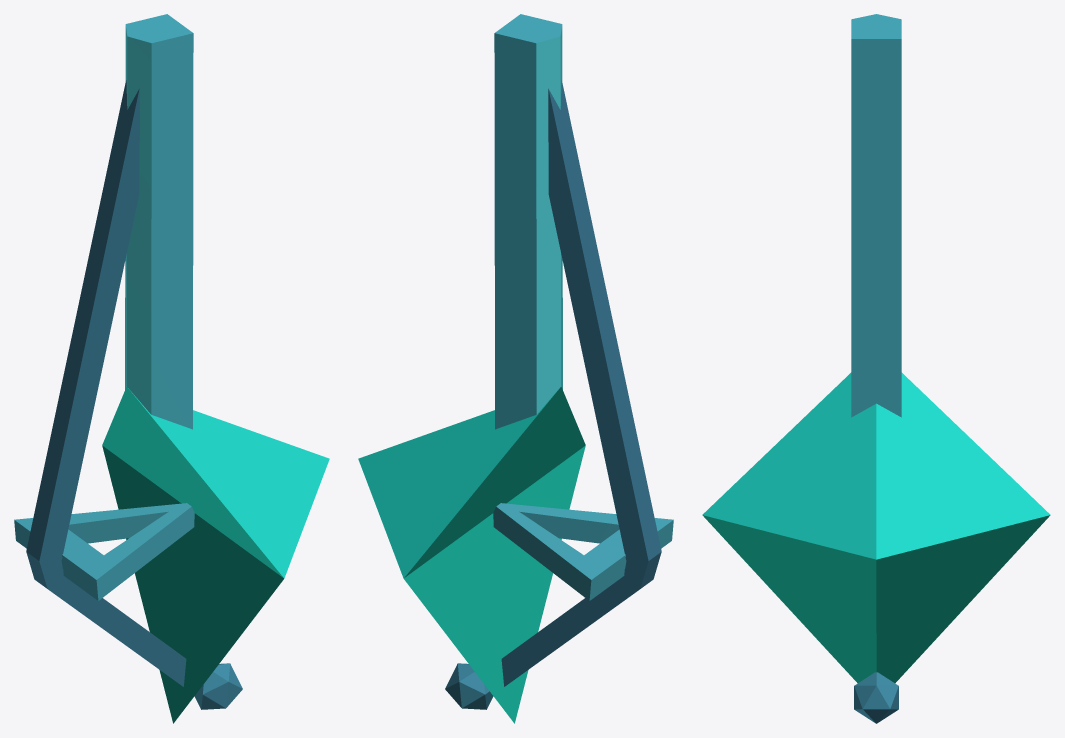
File: Props_Instruments_Kora.fbx
3 renders of one model, left to right at view 1: azimuth 30°, elevation 25°; view 2: azimuth 150°, elevation 25°; view 3: azimuth 270°, elevation 25°, orthographic. The views are drawn at different scales.
Parts seen in each view (by area): view 1: Props_Instruments_Kora; view 2: Props_Instruments_Kora; view 3: Props_Instruments_Kora.
Part boxes in pixels (x1,y1,x2,y2): Props_Instruments_Kora: [14, 14, 329, 723]; Props_Instruments_Kora: [358, 14, 673, 723]; Props_Instruments_Kora: [702, 14, 1050, 723].
Bounding box in the file's own units: 0.6239 × 1.4 × 0.6629.
